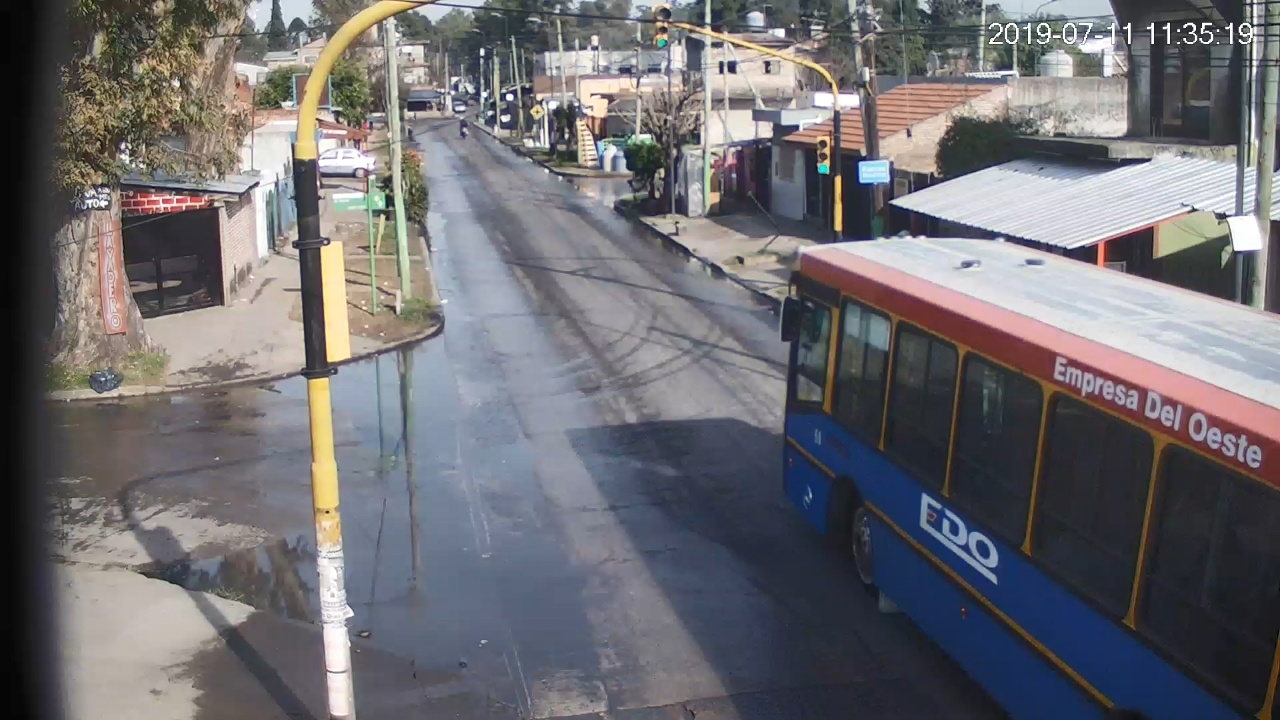bus: (778, 238, 1280, 718)
traffic light: (655, 7, 670, 47), (817, 137, 831, 175)
